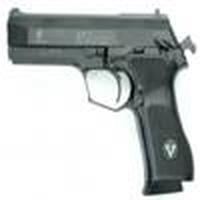gun: (3, 2, 200, 191)
